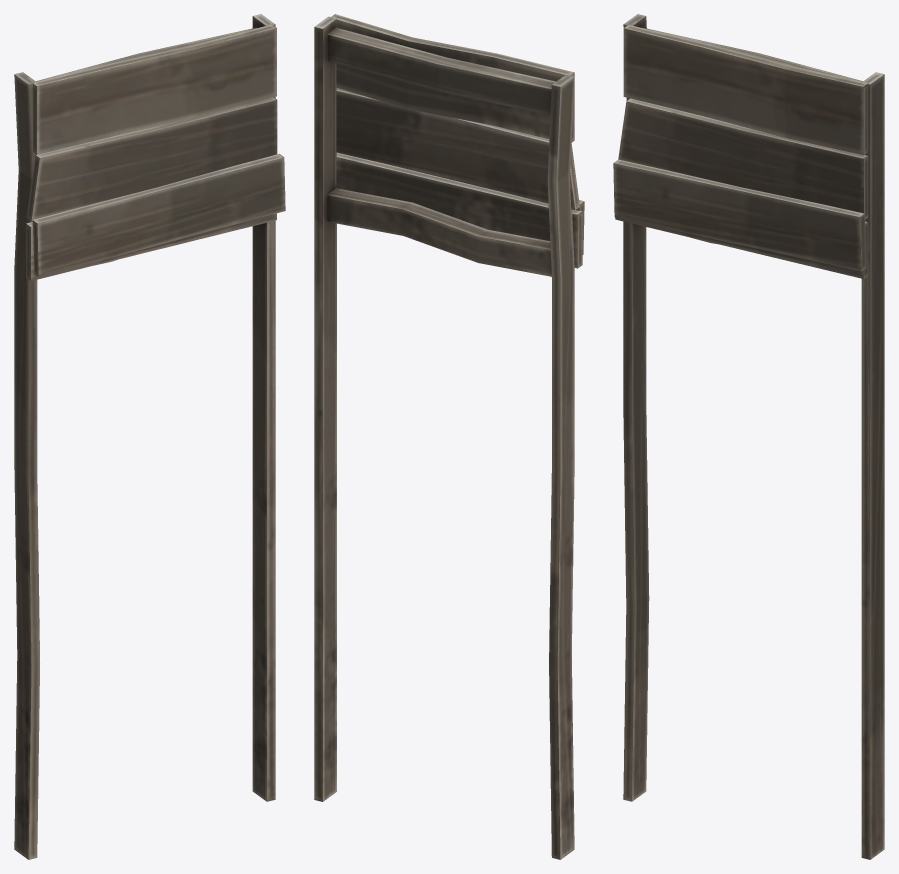
File: Wood_Door_1x.glb
3 views of the same model, side by side, from view 1: azimuth 30°, elevation 25°; view 2: azimuth 150°, elevation 25°; view 3: azimuth 330°, elevation 25° (orthographic).
Visible parts, largest first — view 1: Wood_Door_1x; view 2: Wood_Door_1x; view 3: Wood_Door_1x.
Part boxes in pixels (x1,y1,x2,y2): Wood_Door_1x: (14,14,285,859); Wood_Door_1x: (314,14,584,859); Wood_Door_1x: (613,14,884,859).
Size of what is drawn, in the model's own units: 1.01 by 3 by 0.1664.
Materials: 1 (1 with a texture image).
